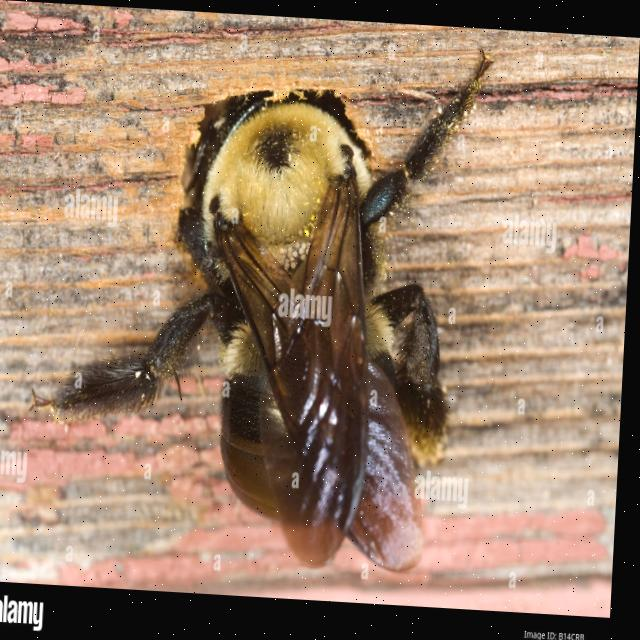Xylocopa: (28, 37, 509, 582)
